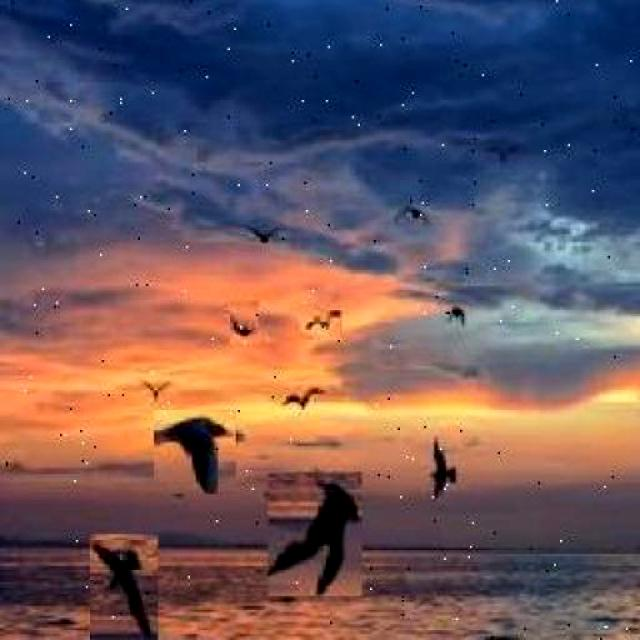airplane: (269, 472, 362, 596), (89, 535, 158, 640), (154, 410, 236, 494), (428, 434, 459, 502), (302, 306, 342, 340), (229, 300, 258, 344), (284, 384, 320, 416), (141, 372, 172, 404)
